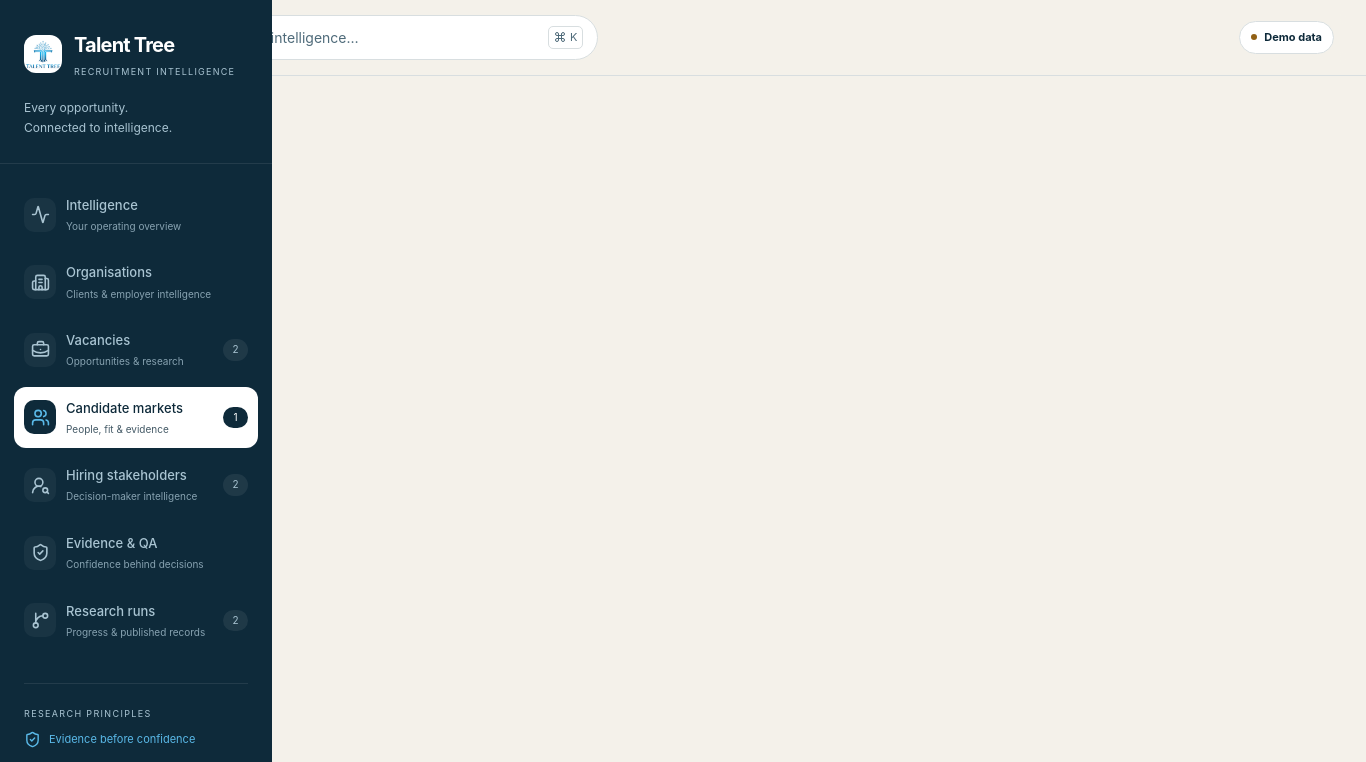
Test: shared shell interactions › searches loaded records in a dialog and restores focus on Escape without invoking research
Click the button "Search intelligence… K": (290, 37) [178,15,598,60]
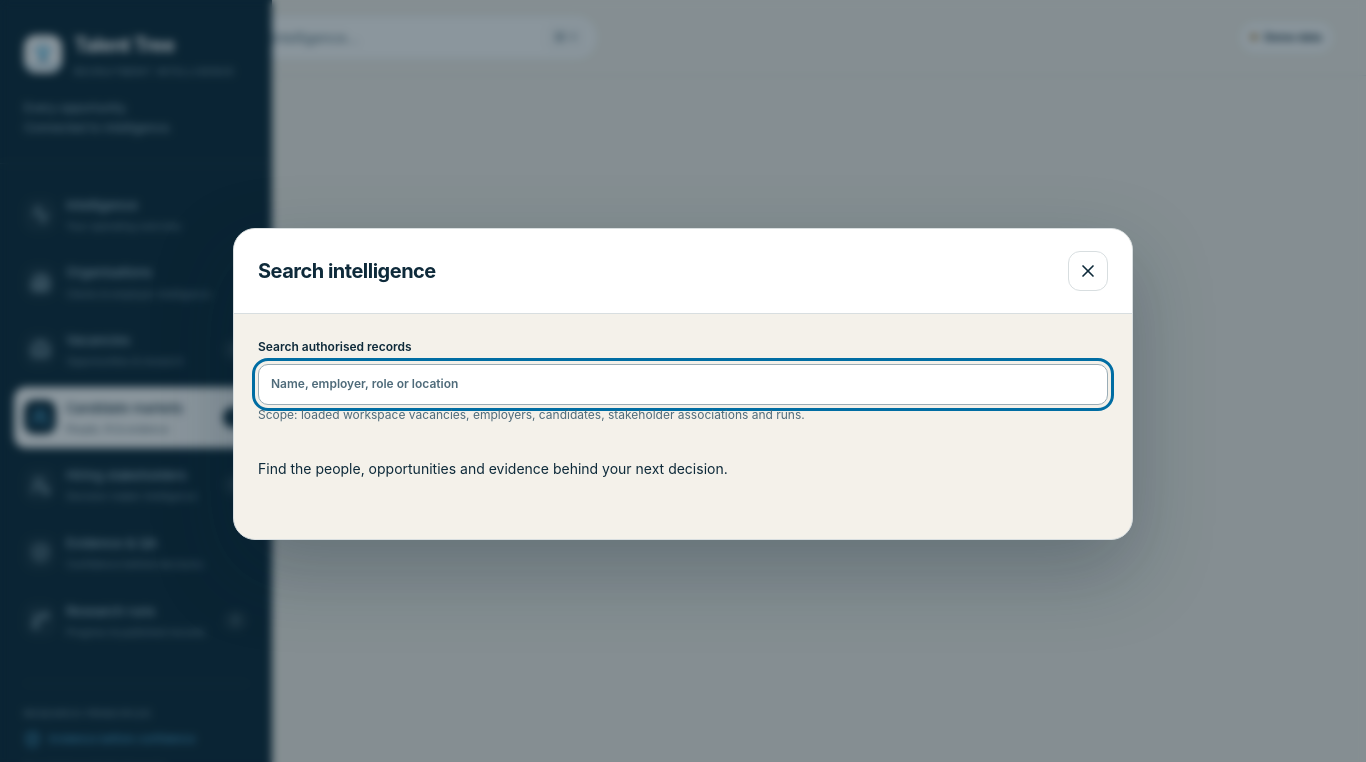
In the search field labelled "Search authorised records": (683, 384) [258,364,1108,404], type "Taylor"
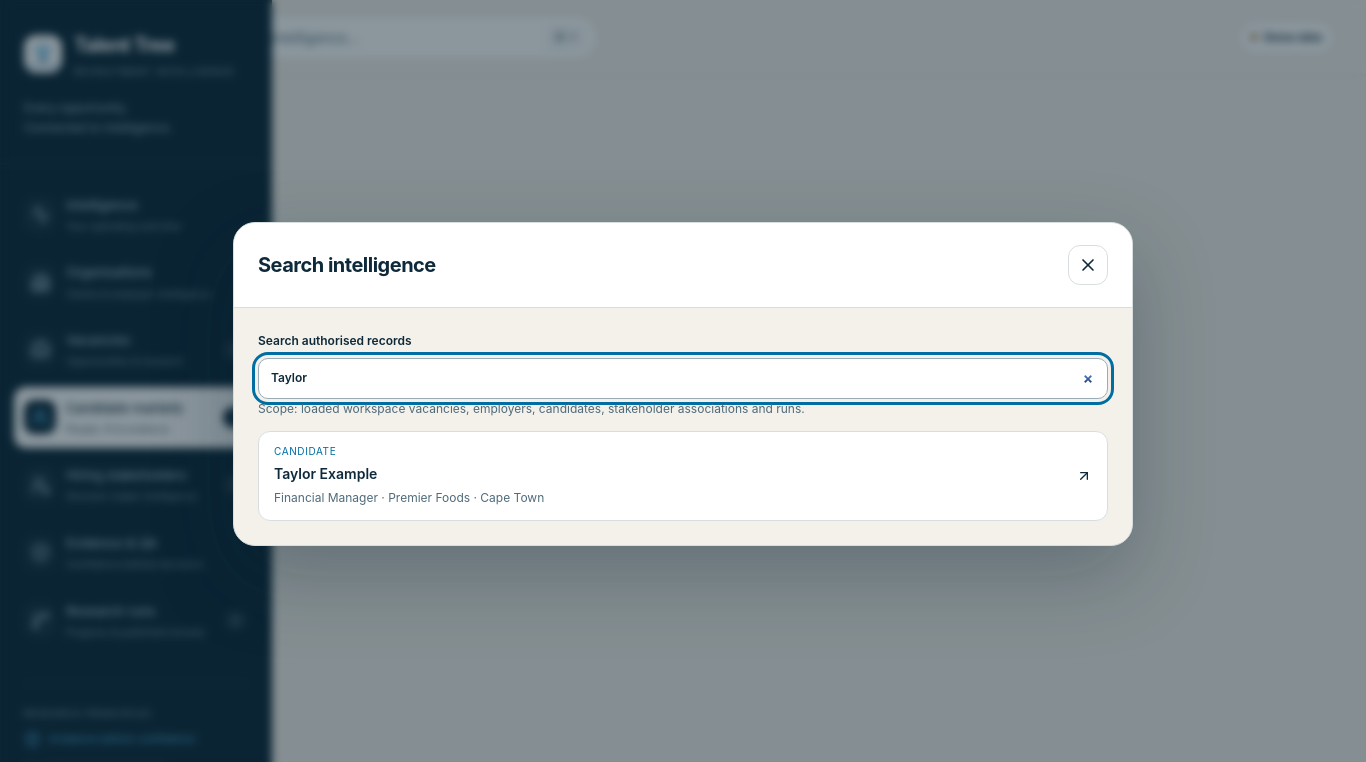
Press Escape
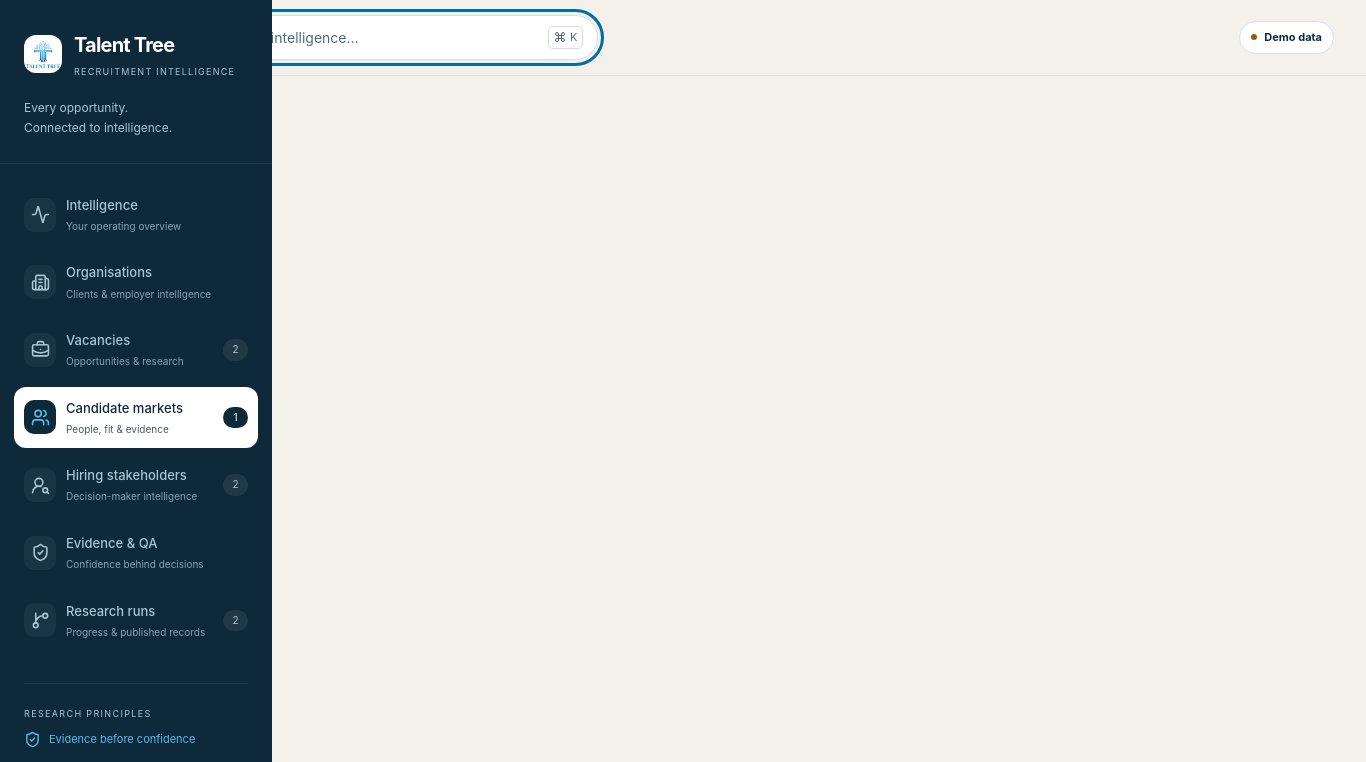
Expected: the dialog is gone
